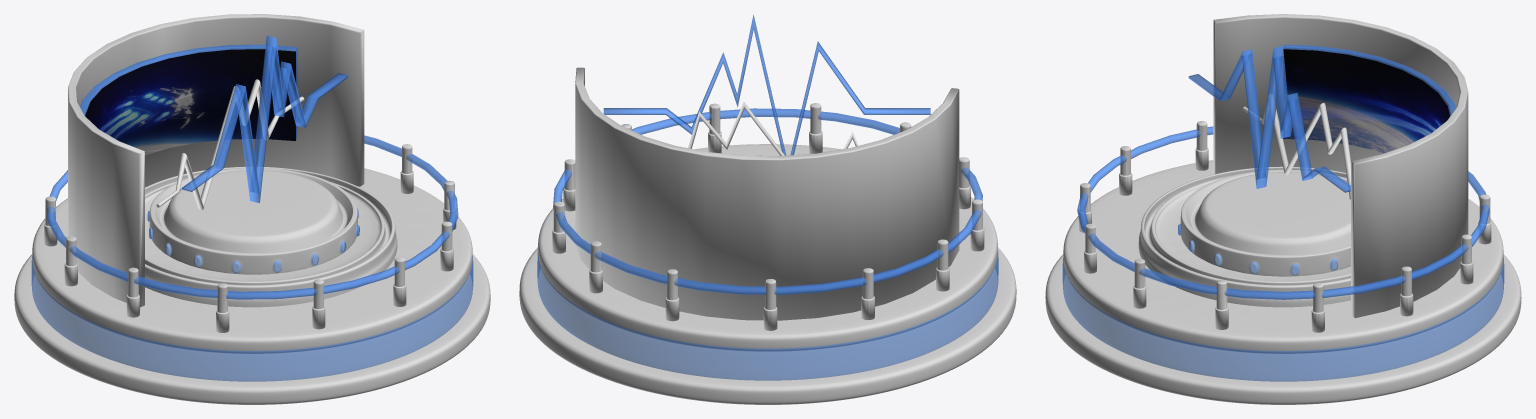
Rendered from firmament.glb.
3 renders of one model, left to right at view 1: azimuth 30°, elevation 25°; view 2: azimuth 150°, elevation 25°; view 3: azimuth 270°, elevation 25°, orthographic. The views are drawn at different scales.
Visible parts, largest first — view 1: 柱体.006, 柱体, 柱体.002, 柱体.004, 柱体.007, 柱体.001, 柱体.003, 平面, 柱体.005, 圆环, NURBS 路径; view 2: 柱体.006, 柱体, 柱体.002, 柱体.001, 柱体.005, 圆环, 平面, NURBS 路径; view 3: 柱体.006, 柱体, 柱体.002, 柱体.004, 柱体.001, 柱体.007, 柱体.003, 柱体.005, 平面, 圆环, NURBS 路径.
Part boxes in pixels (x1,y1,x2,y2): 柱体.006: (68, 14, 364, 307); 柱体: (14, 254, 490, 404); 柱体.002: (32, 168, 472, 353); 柱体.004: (147, 168, 359, 274); 柱体.007: (80, 44, 297, 155); 柱体.001: (31, 256, 473, 381); 柱体.003: (145, 166, 397, 307); 平面: (182, 35, 348, 203); 柱体.005: (44, 144, 456, 332); 圆环: (47, 135, 458, 299); NURBS 路径: (156, 79, 304, 210); 柱体.006: (575, 67, 959, 320); 柱体: (519, 247, 1016, 404); 柱体.002: (538, 144, 997, 351); 柱体.001: (537, 251, 998, 380); 柱体.005: (552, 103, 984, 330); 圆环: (553, 108, 982, 294); 平面: (603, 14, 930, 155); NURBS 路径: (688, 102, 858, 155); 柱体.006: (1213, 14, 1468, 318); 柱体: (1045, 254, 1521, 404); 柱体.002: (1063, 160, 1503, 353); 柱体.004: (1178, 169, 1350, 276); 柱体.001: (1062, 257, 1504, 381); 柱体.007: (1283, 44, 1456, 153); 柱体.003: (1138, 166, 1350, 307); 柱体.005: (1078, 121, 1491, 332); 平面: (1188, 46, 1350, 192); 圆环: (1077, 126, 1489, 299); NURBS 路径: (1243, 94, 1350, 200).
Size of the model in its own units: 6.84 by 4.25 by 6.84.
Materials: 3 (1 with a texture image).
